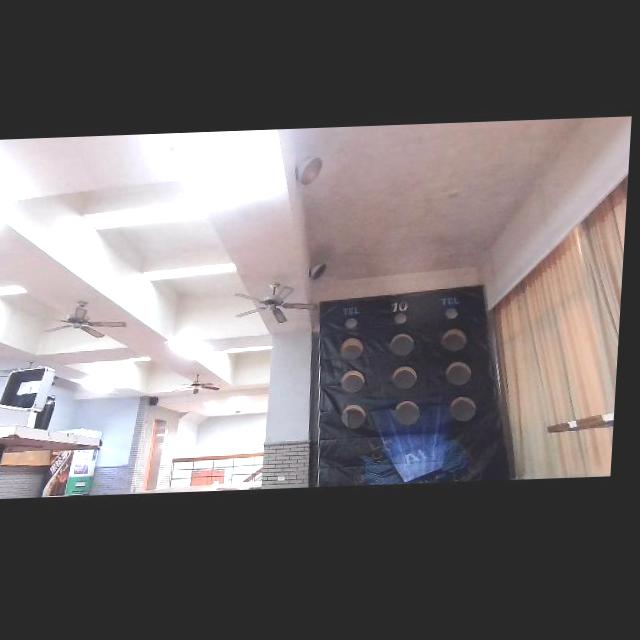hole: (341, 403, 366, 430), (394, 400, 421, 425), (445, 361, 472, 385), (392, 365, 417, 390), (451, 396, 476, 421), (341, 369, 366, 393), (389, 333, 415, 356), (442, 329, 467, 351), (340, 337, 363, 359), (345, 318, 358, 329), (446, 308, 458, 319), (394, 314, 407, 324)
